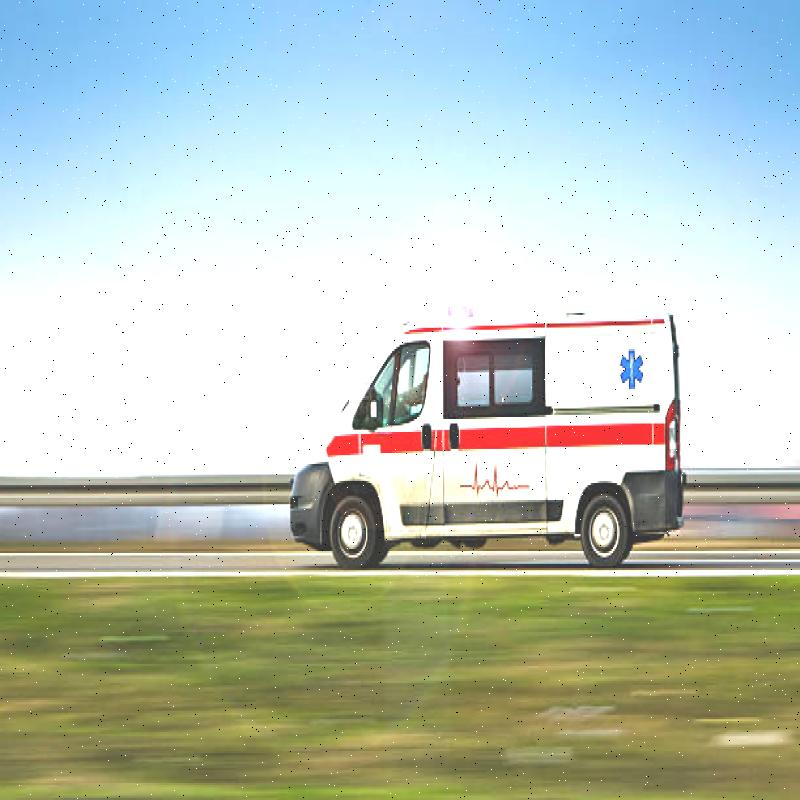ambulance: (273, 271, 694, 589)
